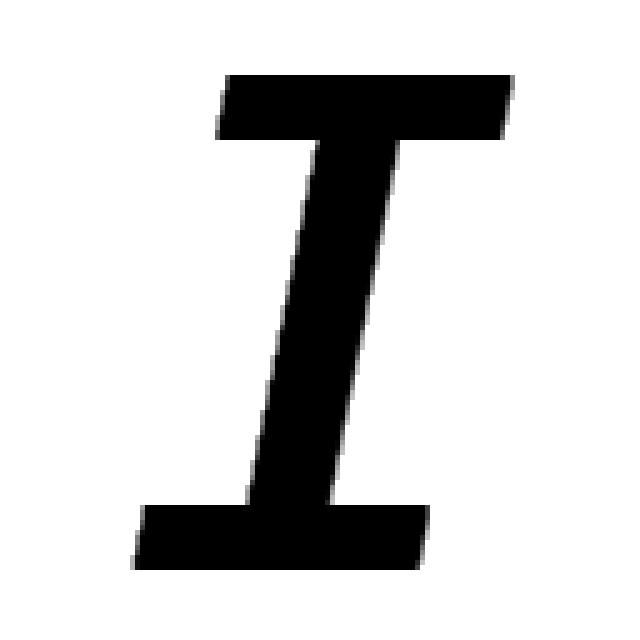I: (130, 75, 515, 575)
